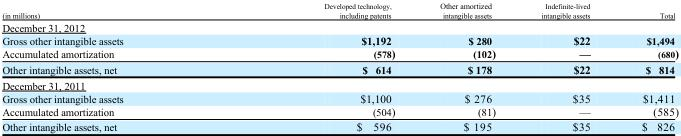table: (1, 0, 677, 132)
table column: (1, 0, 223, 132), (223, 0, 416, 132), (416, 0, 517, 132), (517, 0, 615, 132), (615, 0, 677, 132)
table column header: (1, 0, 677, 20)
table projected row header: (1, 77, 677, 91), (1, 20, 677, 33)
table row: (1, 0, 677, 20), (1, 61, 677, 77), (1, 46, 677, 61), (1, 77, 677, 91), (1, 104, 677, 118), (1, 118, 677, 132), (1, 20, 677, 33), (1, 33, 677, 46), (1, 91, 677, 104)
